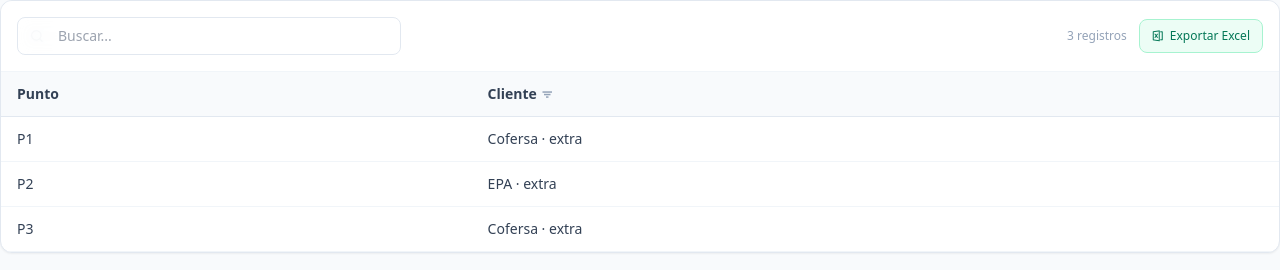
DataTable maxVisibleRows (scroll interno) › el filtro de columna flota fuera del contenedor con scroll para que no se recorte
This screenshot has width=1280, height=270.
Click the button with class "ri-filter-3-fill" at coordinates (547, 94), box [541,84,553,104]
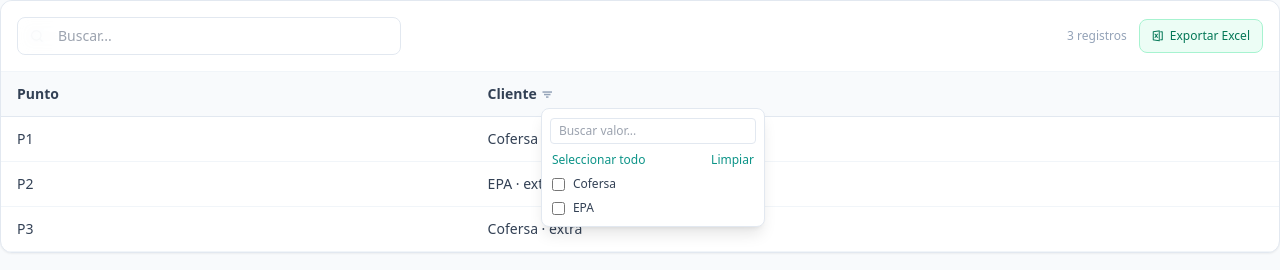
Result: the element with class "z-50" is shown at [541,108,765,227]
